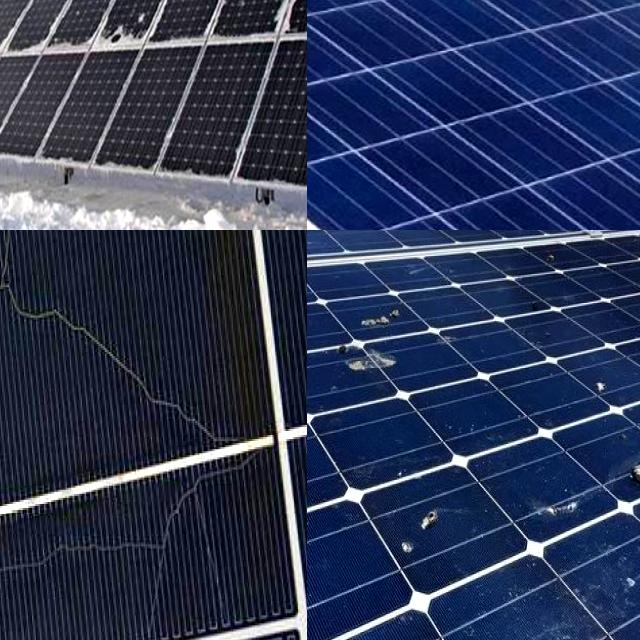bird: (378, 503, 471, 572), (509, 466, 595, 540), (530, 236, 570, 332), (603, 434, 640, 511), (603, 542, 640, 614), (336, 299, 414, 331), (332, 351, 418, 378), (588, 366, 632, 406)
crack: (307, 0, 640, 230)
panel: (0, 25, 47, 82), (91, 14, 158, 53), (0, 0, 33, 60), (272, 0, 307, 56), (0, 14, 25, 76), (0, 83, 22, 128), (112, 26, 143, 32)
shadow: (170, 230, 296, 450), (0, 230, 57, 545), (0, 230, 114, 250)
